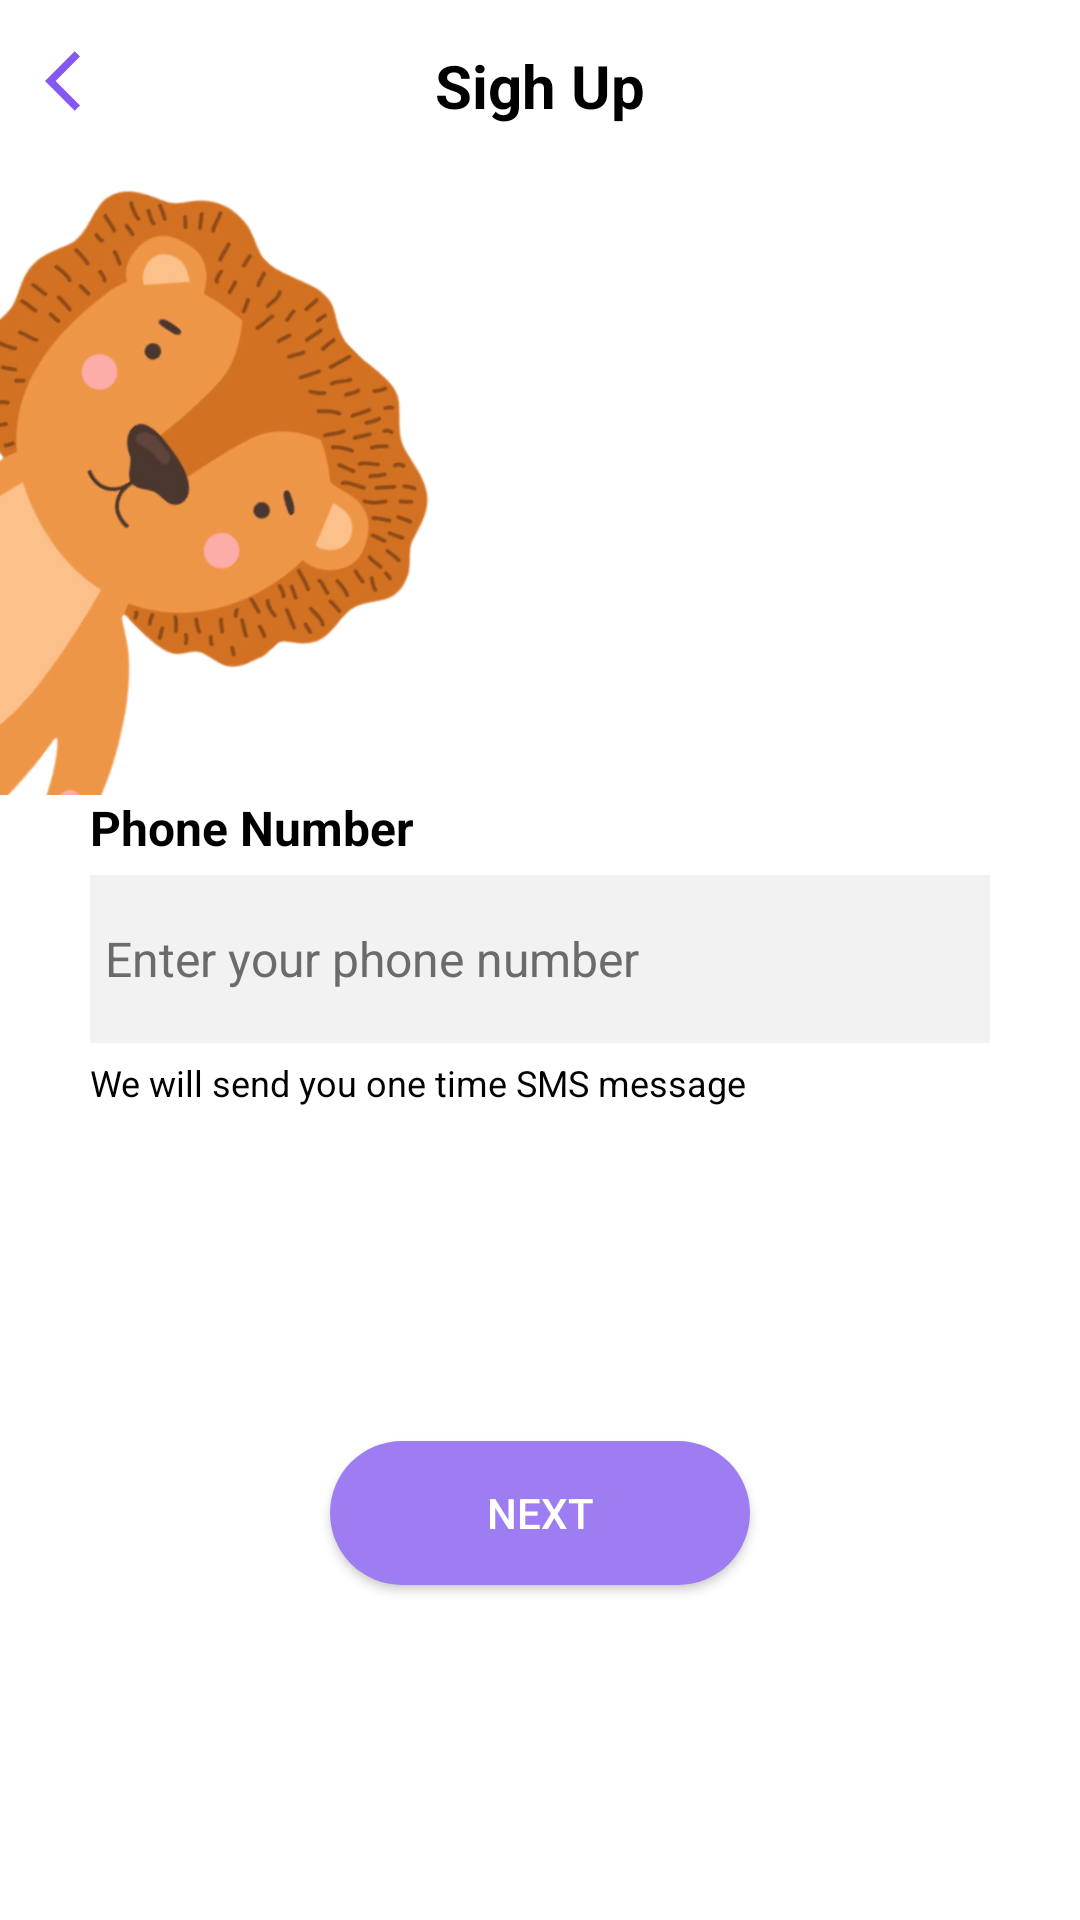

Icon click points for this 1080×1920 phone screenshot, format point (x, y):
arrow back deep: point (62, 81)
